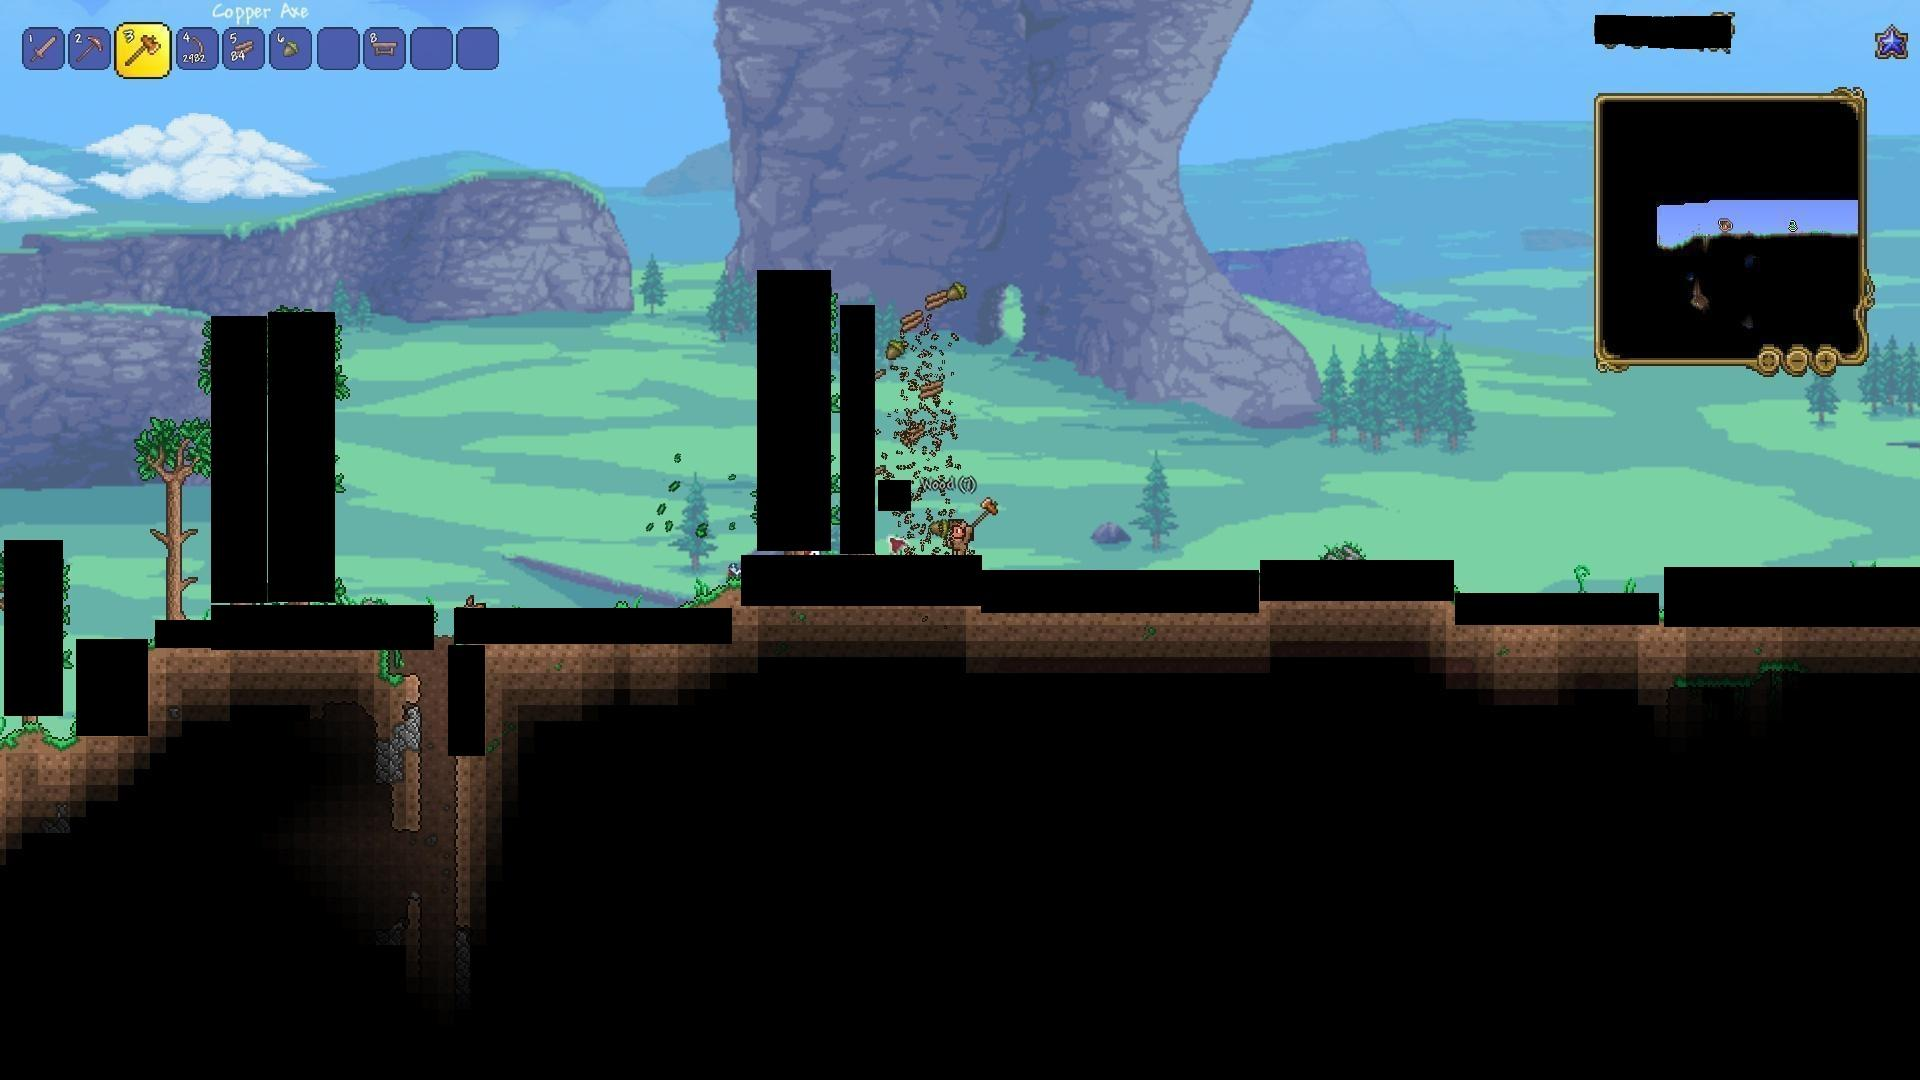dirt: (9, 720, 47, 757)
tree: (141, 409, 206, 617)
wood: (891, 309, 924, 339), (914, 375, 945, 405), (919, 280, 951, 309), (229, 32, 255, 65)
workbench: (367, 37, 404, 62)
